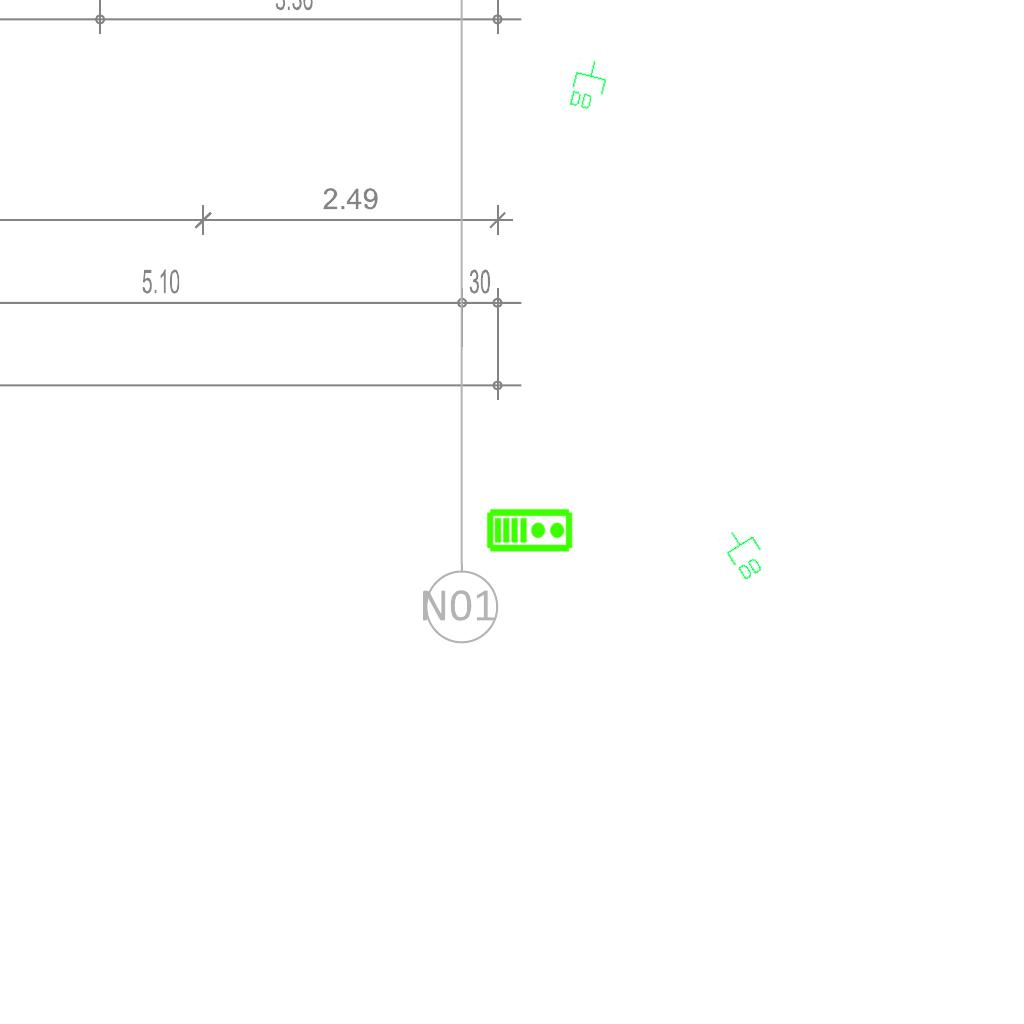Datenanschluss_zweifach: (716, 522, 773, 584), (565, 56, 612, 114)
Gegensprechanlage_mit_Video: (486, 506, 574, 553)
